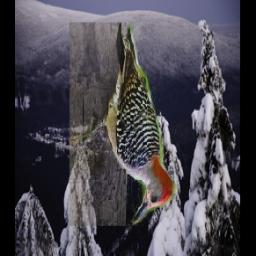Woodpecker: (69, 22, 180, 226)
